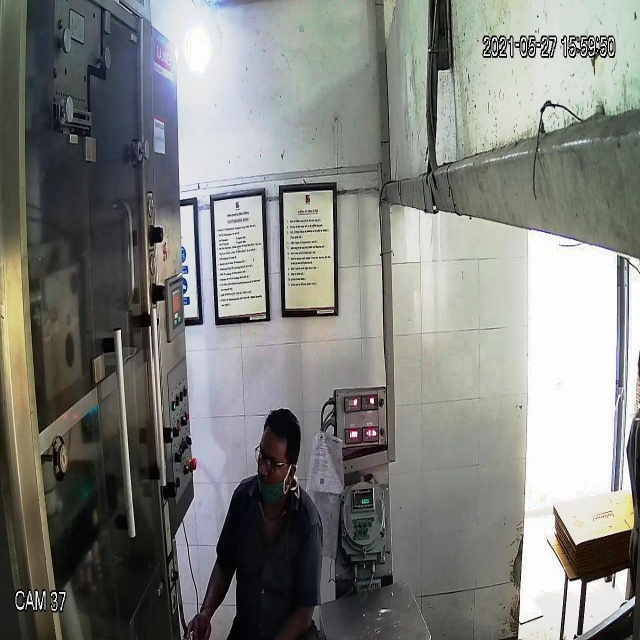Gafas: (251, 444, 294, 476)
